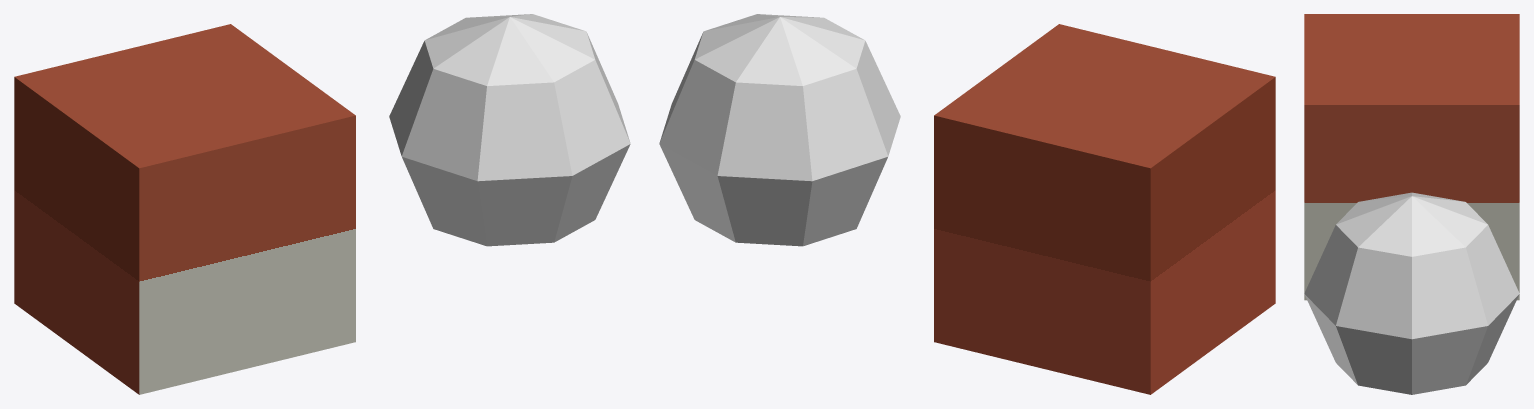
The model's file is separate_files.out_web_tex_rt.glb.
The picture shows the model from 3 angles, left to right: view 1: azimuth 30°, elevation 25°; view 2: azimuth 150°, elevation 25°; view 3: azimuth 270°, elevation 25°; orthographic projection. The views are drawn at different scales.
Parts seen in each view (by area): view 1: Cube, Sphere; view 2: Cube, Sphere; view 3: Cube, Sphere.
Boxes of the visible parts, <box> form: Cube: <box>14,24,355,394</box>; Sphere: <box>389,14,630,246</box>; Cube: <box>934,24,1275,394</box>; Sphere: <box>659,14,900,246</box>; Cube: <box>1304,14,1519,300</box>; Sphere: <box>1304,192,1519,394</box>.
Bounding box in the file's own units: 5 × 2 × 2.
Materials: 1 (1 with a texture image).
